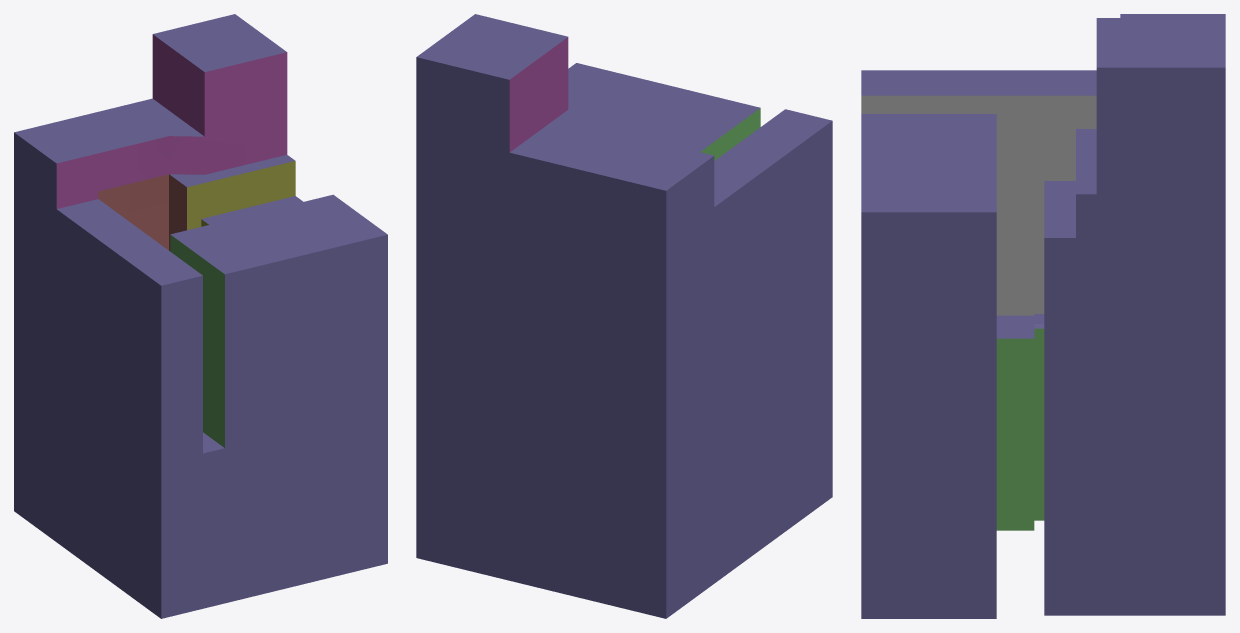
File: testBuilding123.fbx
The picture shows the model from 3 angles, left to right: view 1: azimuth 30°, elevation 25°; view 2: azimuth 150°, elevation 25°; view 3: azimuth 270°, elevation 25°; orthographic projection. The views are drawn at different scales.
Visible parts, largest first — view 1: walls1; view 2: walls1; view 3: walls1.
Boxes of the visible parts, box(x1,y1,x2,y2) form: walls1: box(14, 14, 387, 618); walls1: box(416, 14, 832, 618); walls1: box(861, 14, 1225, 618).
Bounding box in the file's own units: 78.23 × 146 × 88.02.
